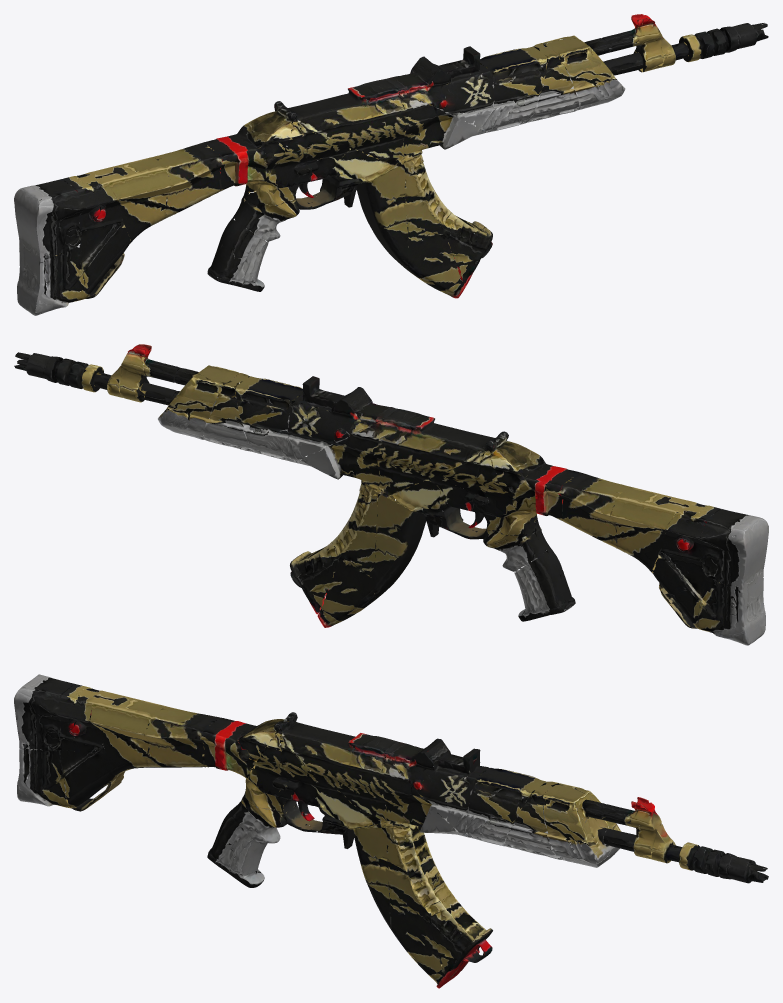
The model's file is vandal.glb.
3 views of the same model, one above another, from view 1: azimuth 30°, elevation 25°; view 2: azimuth 150°, elevation 25°; view 3: azimuth 330°, elevation 25° (orthographic).
Visible parts, largest first — view 1: tripo_node_1ae16378-9bb3-4d0d-83c8-03c9206e634e; view 2: tripo_node_1ae16378-9bb3-4d0d-83c8-03c9206e634e; view 3: tripo_node_1ae16378-9bb3-4d0d-83c8-03c9206e634e.
Boxes of the visible parts, box(x1,y1,x2,y2) form: tripo_node_1ae16378-9bb3-4d0d-83c8-03c9206e634e: box(14, 14, 768, 315); tripo_node_1ae16378-9bb3-4d0d-83c8-03c9206e634e: box(14, 344, 768, 645); tripo_node_1ae16378-9bb3-4d0d-83c8-03c9206e634e: box(14, 674, 768, 988).
Bounding box in the file's own units: 0.93 × 0.2837 × 0.0663.
1 material, 1 textured.
